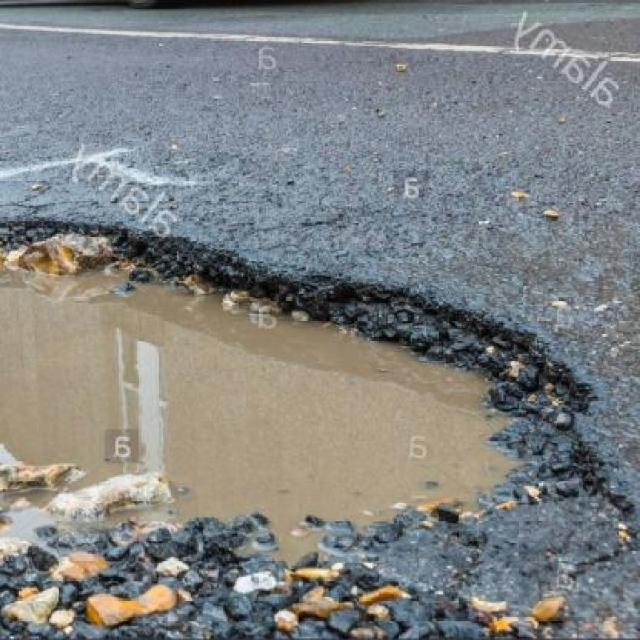pothole: (2, 210, 640, 578)
